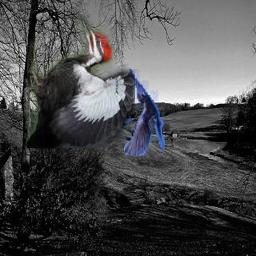Swallow: (124, 69, 165, 157)
Woodpecker: (27, 14, 135, 148)
